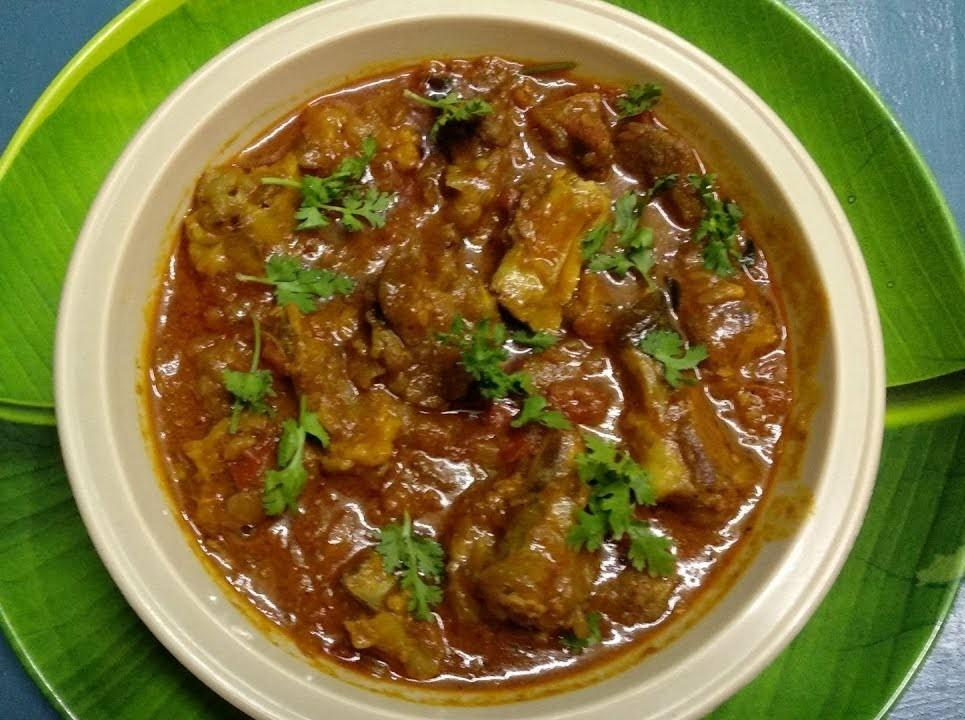MuttonCurry: (146, 55, 792, 688)
